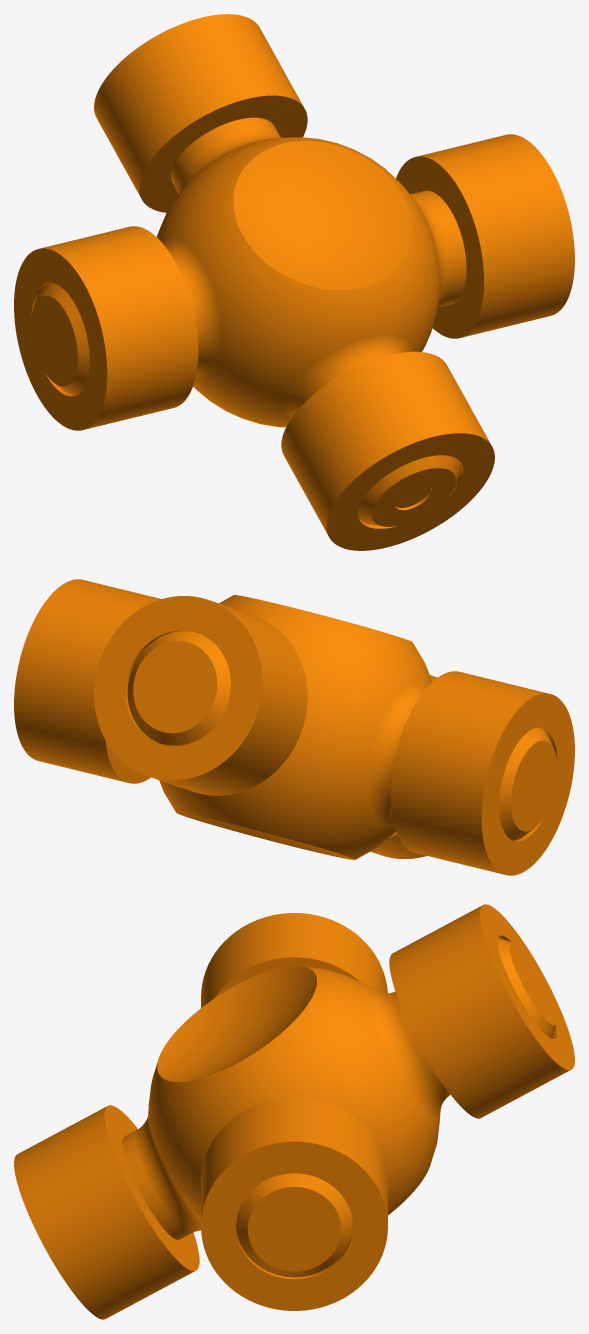
File: croisillion_bas5.dae
3 views of the same model, one above another, from view 1: azimuth 30°, elevation 25°; view 2: azimuth 150°, elevation 25°; view 3: azimuth 270°, elevation 25° (orthographic).
Parts seen in each view (by area): view 1: C0001_0001-2_Croisillon_6; view 2: C0001_0001-2_Croisillon_6; view 3: C0001_0001-2_Croisillon_6.
Boxes of the visible parts, x1=… form: C0001_0001-2_Croisillon_6: x1=14, y1=14, x2=574, y2=550; C0001_0001-2_Croisillon_6: x1=14, y1=579, x2=574, y2=875; C0001_0001-2_Croisillon_6: x1=14, y1=904, x2=574, y2=1319.
Size of the model in its own units: 0.095 by 0.096 by 0.0746.
